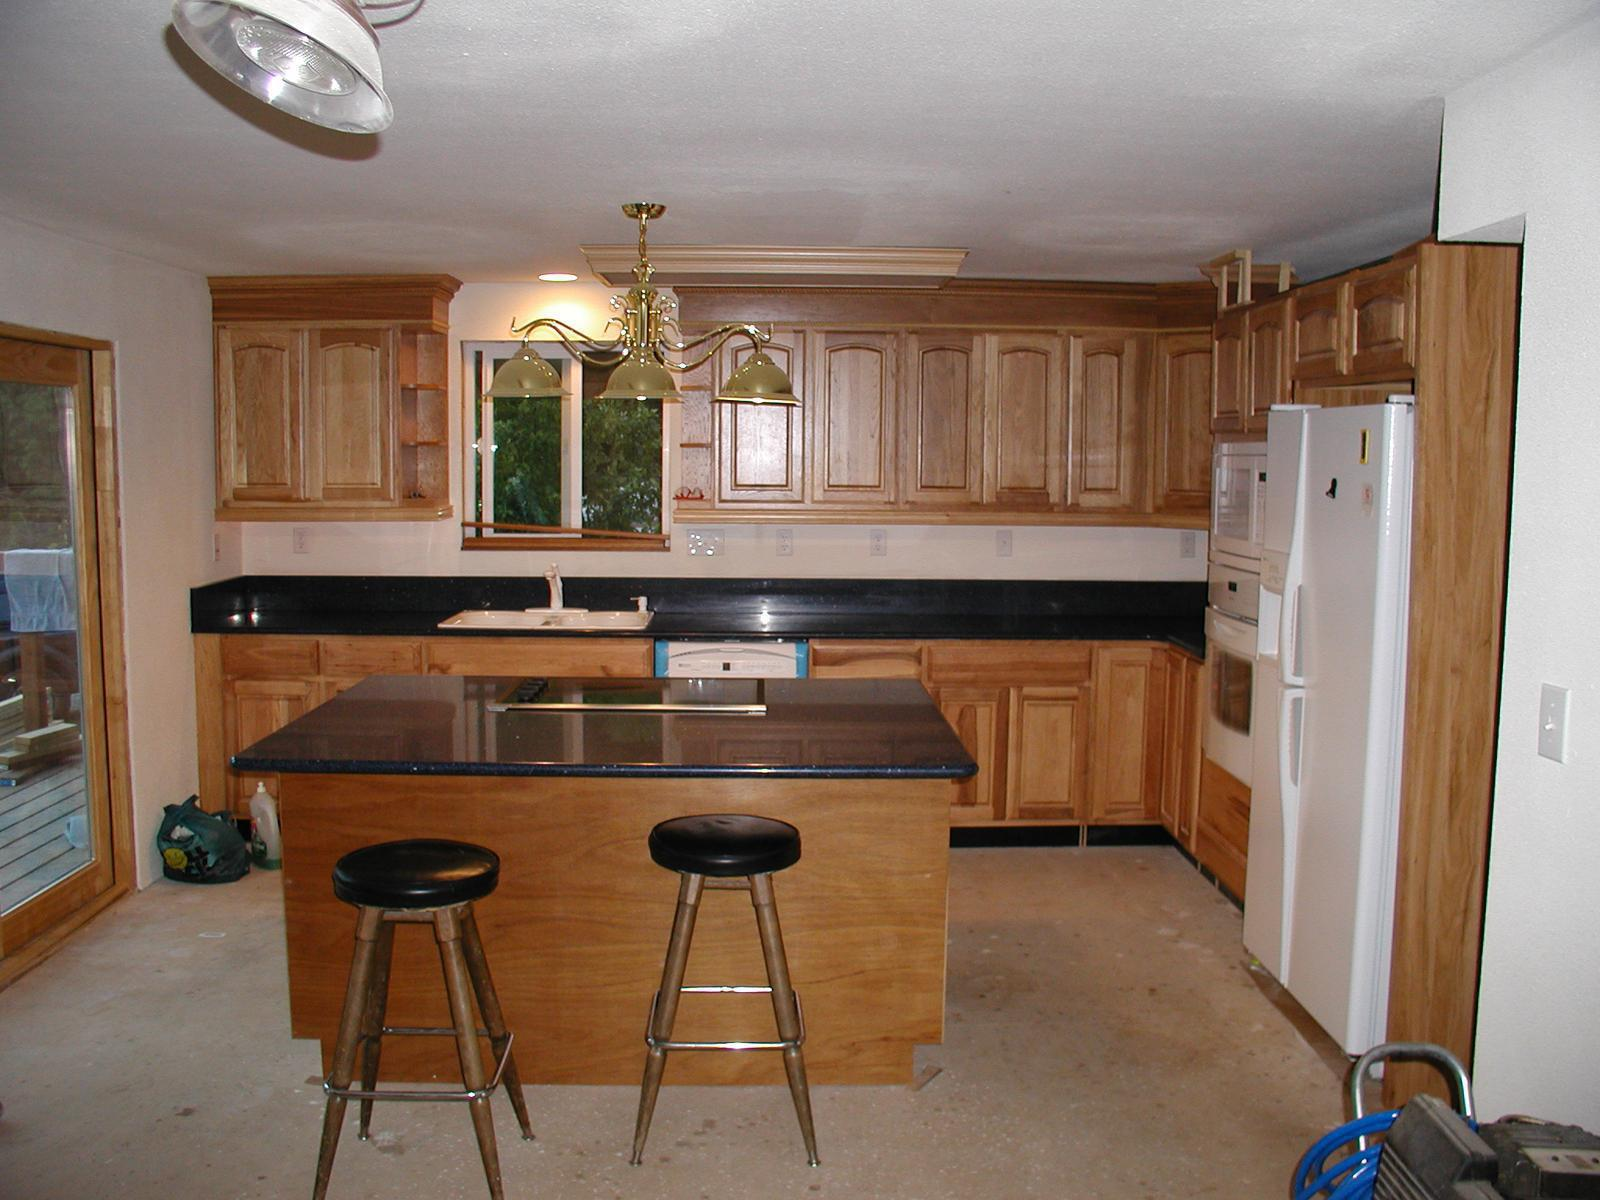Electrodomestico: (1267, 400, 1368, 1061)
Lavaplatos: (413, 555, 677, 639)
